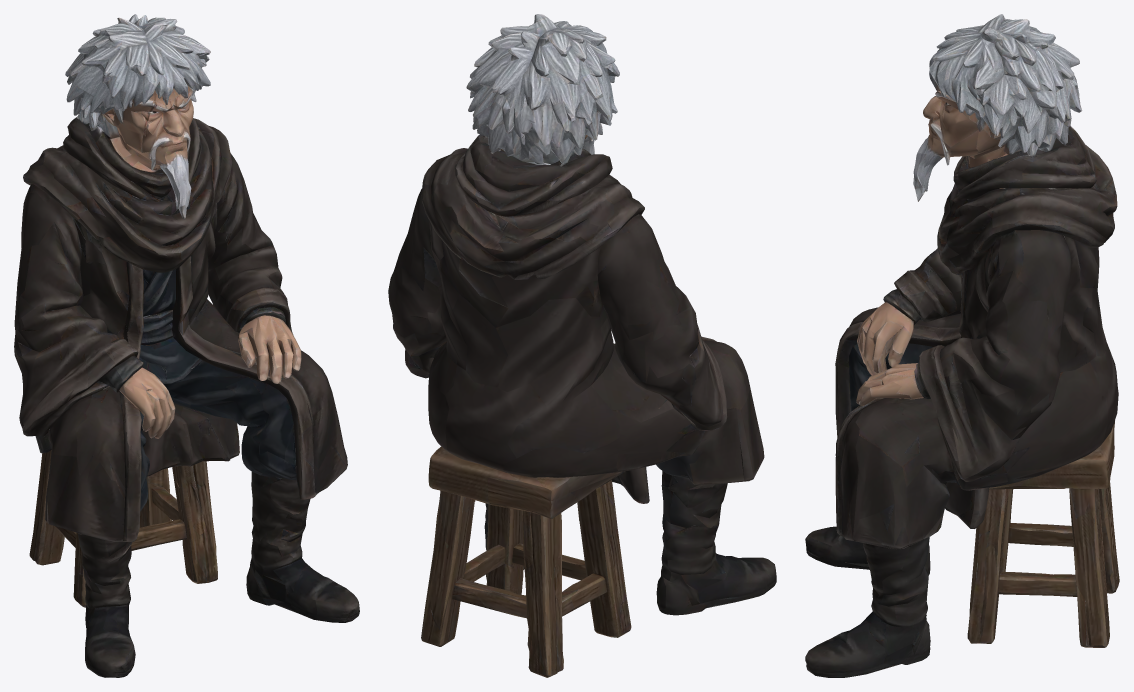
File: jeongjeong.glb
3 views of the same model, side by side, from view 1: azimuth 30°, elevation 25°; view 2: azimuth 150°, elevation 25°; view 3: azimuth 270°, elevation 25° (orthographic). The views are drawn at different scales.
Visible parts, largest first — view 1: Mesh_0; view 2: Mesh_0; view 3: Mesh_0.
Boxes of the visible parts, x1,y1,x2,y2 form: Mesh_0: (14, 14, 359, 677); Mesh_0: (388, 14, 776, 677); Mesh_0: (805, 14, 1119, 677).
Size of the model in its own units: 1.03 by 1.9 by 0.9186.
Materials: 1 (1 with a texture image).
